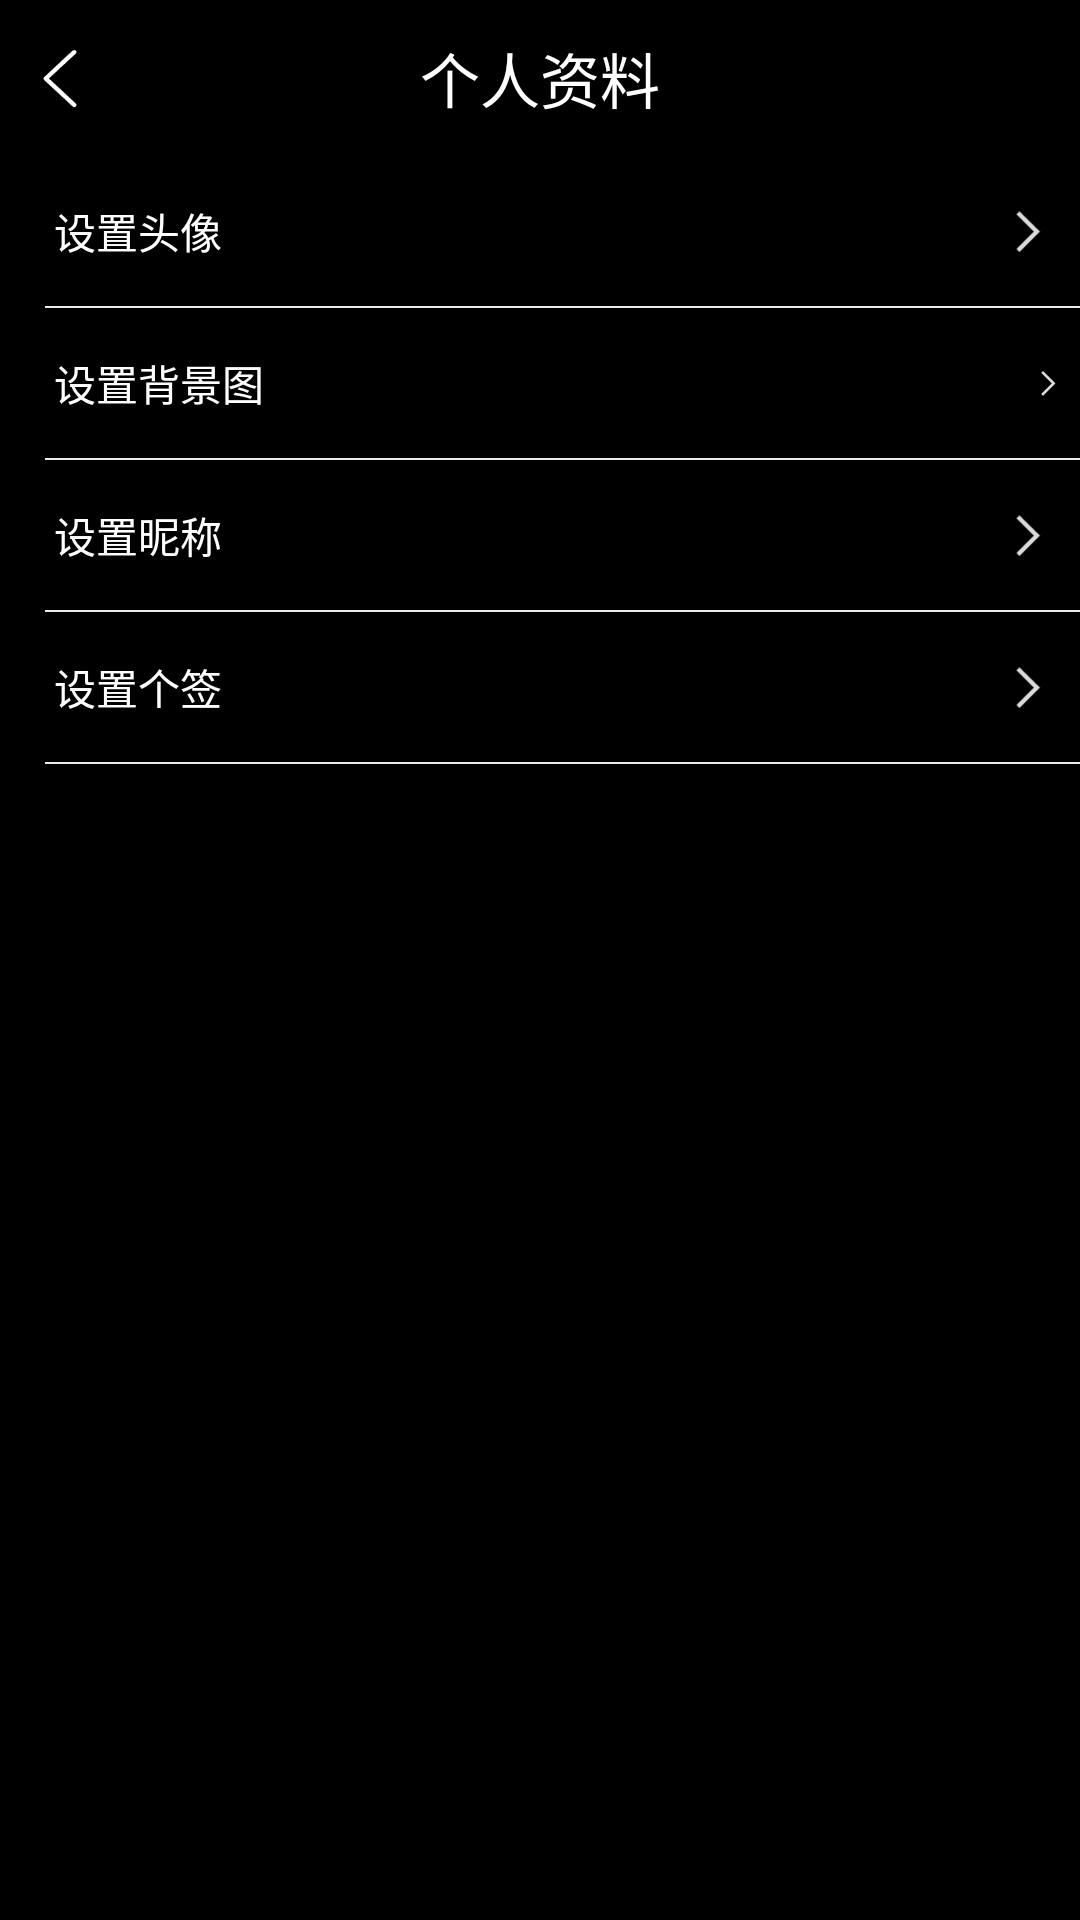

Named icons in this screenshot (1080 x 1920) and their bounding boxes, rect(x1, y1, x2, y2):
back: rect(43, 50, 77, 108)
right: rect(1016, 211, 1040, 252), rect(1041, 371, 1056, 396), rect(1016, 515, 1040, 556), rect(1016, 667, 1040, 708)
